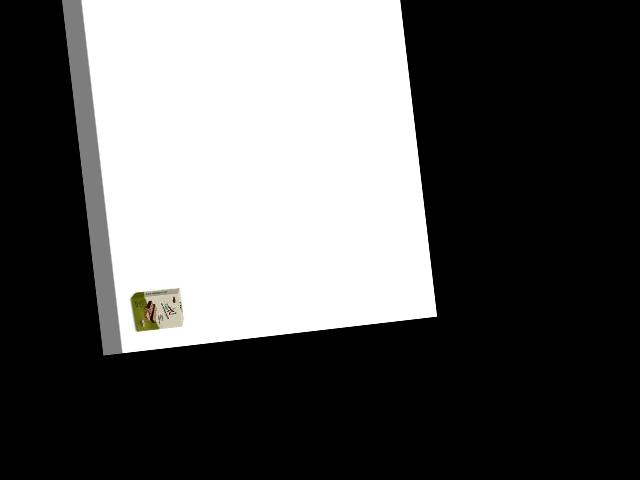chocolate: (127, 284, 186, 336)
